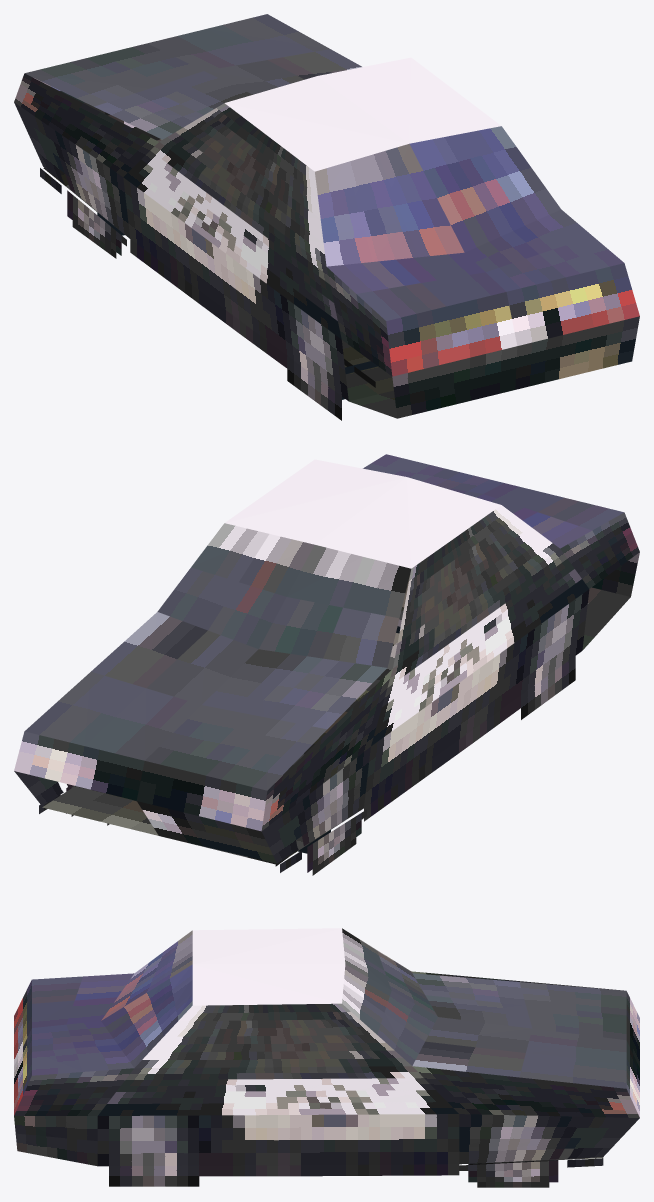
The model's file is car-copmust-new.glb.
3 renders of one model, top to bottom at view 1: azimuth 30°, elevation 25°; view 2: azimuth 150°, elevation 25°; view 3: azimuth 270°, elevation 25°, orthographic. The views are drawn at different scales.
Parts seen in each view (by area): view 1: car-copmust-new; view 2: car-copmust-new; view 3: car-copmust-new.
Part boxes in pixels (x1,y1,x2,y2): car-copmust-new: (14,14,639,420); car-copmust-new: (14,454,639,875); car-copmust-new: (14,928,639,1187).
Size of the model in its own units: 1.66 by 1.35 by 4.38.
33 materials, 33 textured.
